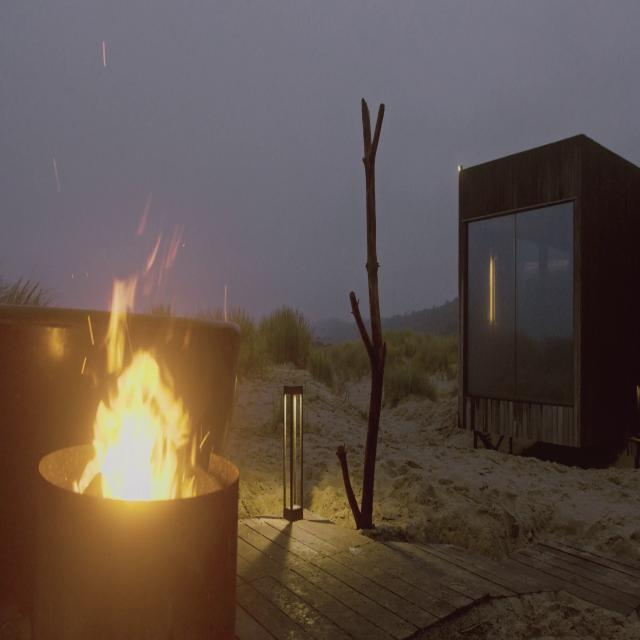Fire: (82, 194, 198, 506)
